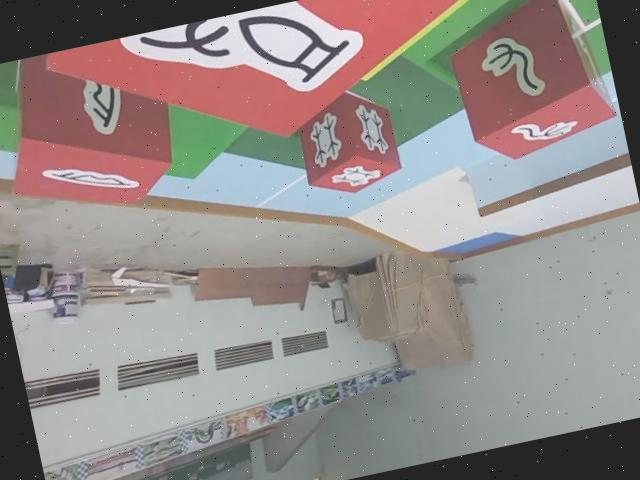R2 Real: (38, 0, 495, 189), (0, 30, 190, 234), (434, 0, 622, 171), (288, 82, 406, 205)
